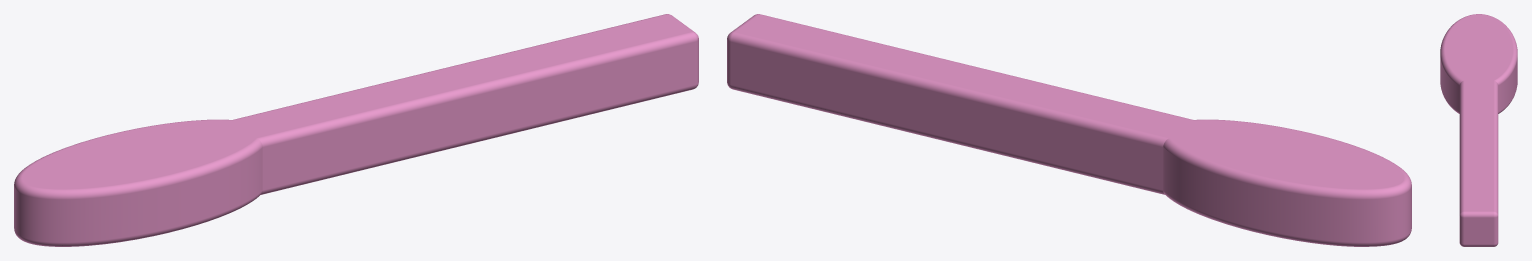
Rendered from Roze ovaal met stokje.glb.
3 views of the same model, side by side, from view 1: azimuth 30°, elevation 25°; view 2: azimuth 150°, elevation 25°; view 3: azimuth 270°, elevation 25° (orthographic). The views are drawn at different scales.
Size of the model in its own units: 0.049 by 0.004 by 0.008.
